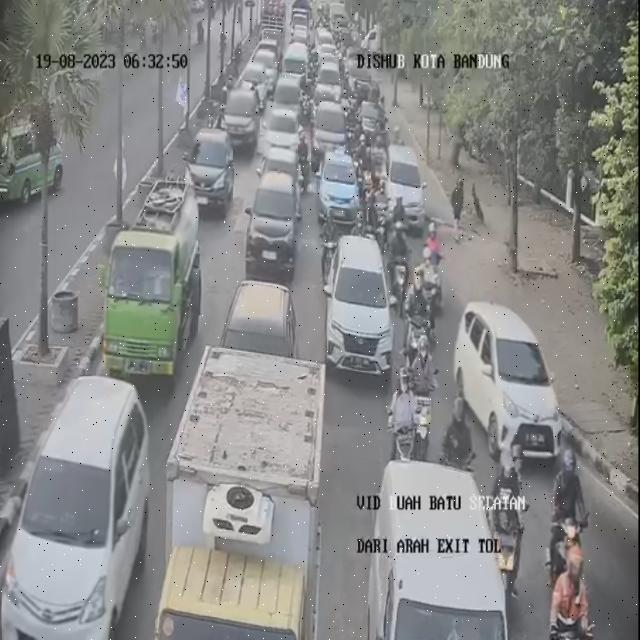cars: (2, 380, 153, 640), (373, 460, 515, 640), (452, 295, 553, 466), (325, 229, 394, 383), (224, 283, 300, 395), (247, 171, 302, 270), (185, 129, 233, 211), (316, 146, 359, 228), (384, 144, 422, 225), (227, 81, 260, 150), (311, 96, 344, 164), (265, 103, 298, 165), (246, 62, 269, 114), (276, 74, 300, 121), (283, 42, 308, 82), (254, 49, 277, 86), (312, 80, 335, 116), (318, 58, 339, 96)
motorcycle: (547, 439, 588, 610), (487, 453, 527, 599), (398, 330, 432, 457), (401, 266, 434, 368), (420, 226, 448, 320), (387, 211, 412, 298), (364, 187, 379, 240), (372, 134, 386, 180), (356, 133, 368, 185), (390, 124, 404, 148)
truck: (160, 410, 325, 640), (96, 218, 198, 390)
